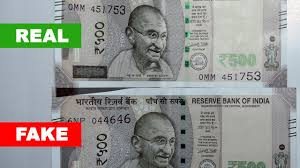fiveHundred: (80, 5, 273, 69), (80, 108, 273, 165)
